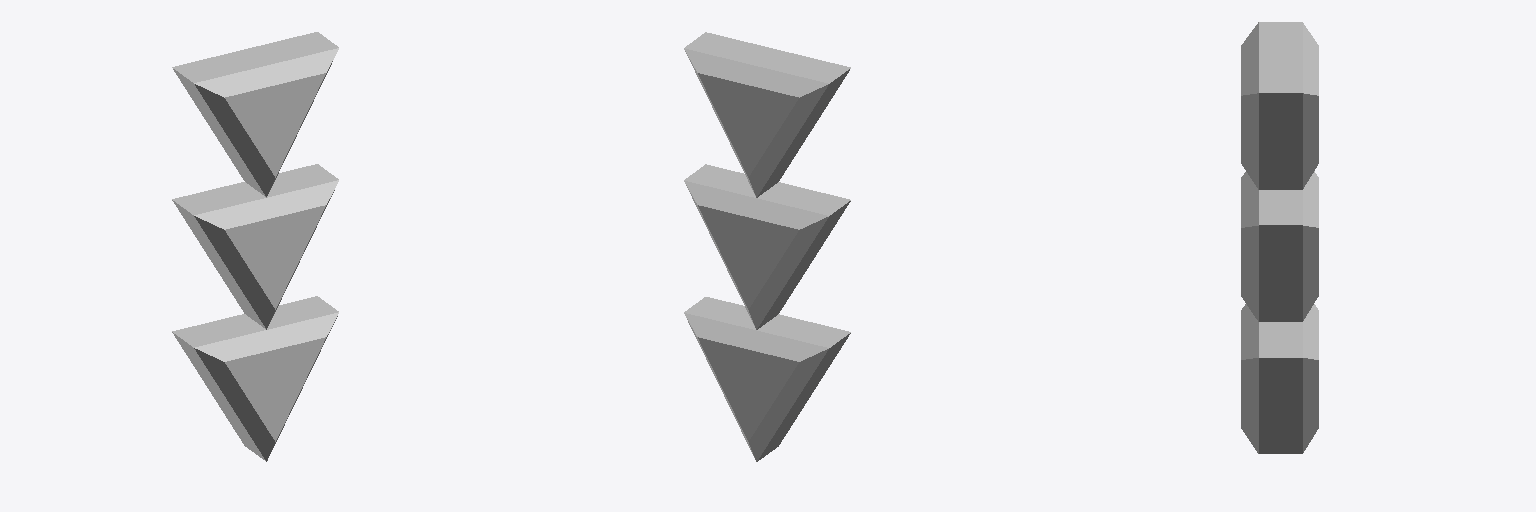
The model's file is threeqrrowsdown.obj.
The picture shows the model from 3 angles: view 1: azimuth 30°, elevation 25°; view 2: azimuth 150°, elevation 25°; view 3: azimuth 270°, elevation 25°; orthographic projection.
Visible parts, largest first — view 1: Arrow; view 2: Arrow; view 3: Arrow.
Part boxes in pixels (x1,y1,x2,y2): Arrow: (172,32,338,461); Arrow: (684,32,850,461); Arrow: (1241,22,1318,453).
Bounding box in the file's own units: 1.27 × 3.3 × 0.59.